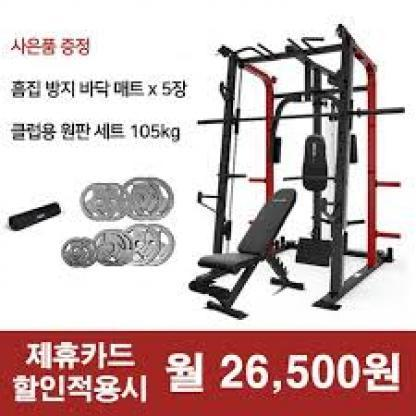smith machine: (188, 25, 406, 321)
